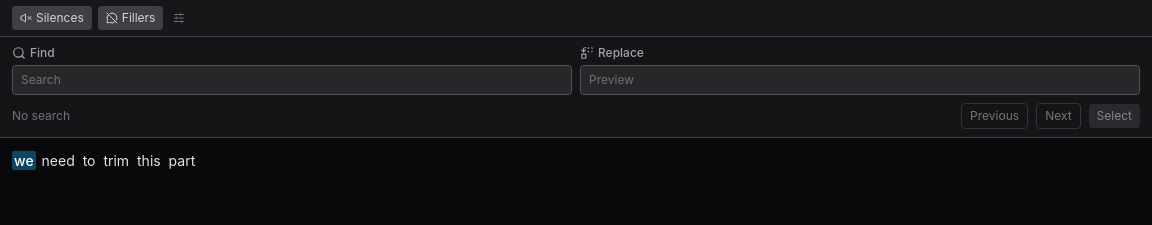
Test: TranscriptEditor › should show correction preview without sending transcript mutation IPC
The image size is (1152, 225).
Expected: the button "need" is shown, [40, 151, 77, 170]
Type "need to" into the search field named "Find in transcript".
click(292, 80); type("need to")  # box [12, 65, 572, 95]
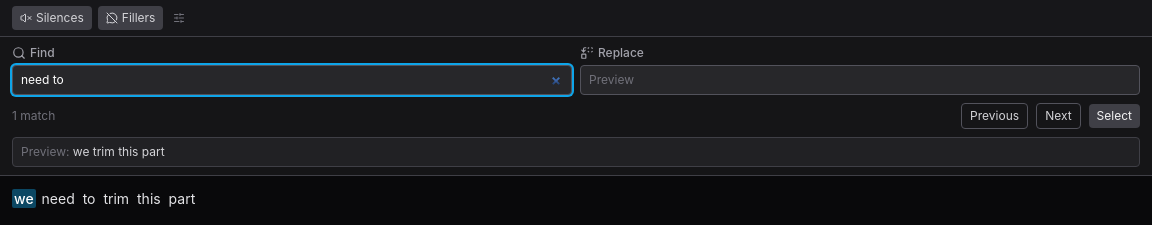
Type "should" into the field named "Transcript replacement preview".
click(860, 80); type("should")  # box [580, 65, 1140, 95]
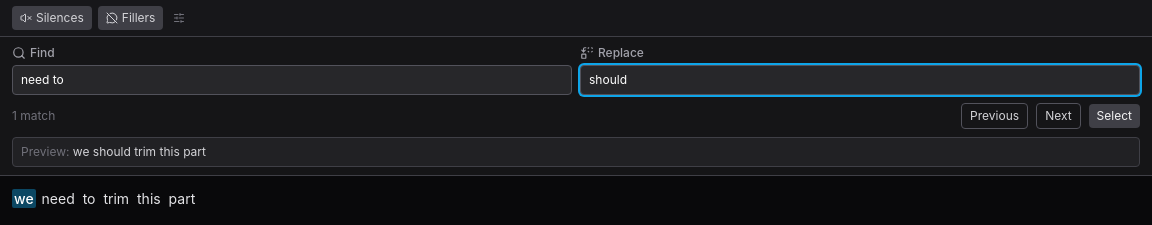
Now the text "we should trim this part" is shown, box [73, 144, 206, 159]
